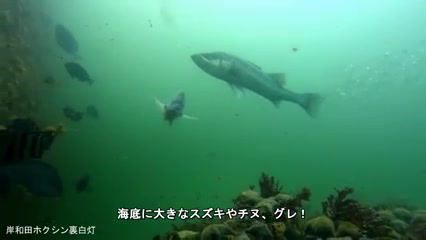smallfish: (61, 59, 101, 90)
suzuki: (188, 44, 334, 122)
